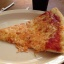pizza: (1, 5, 63, 54)
